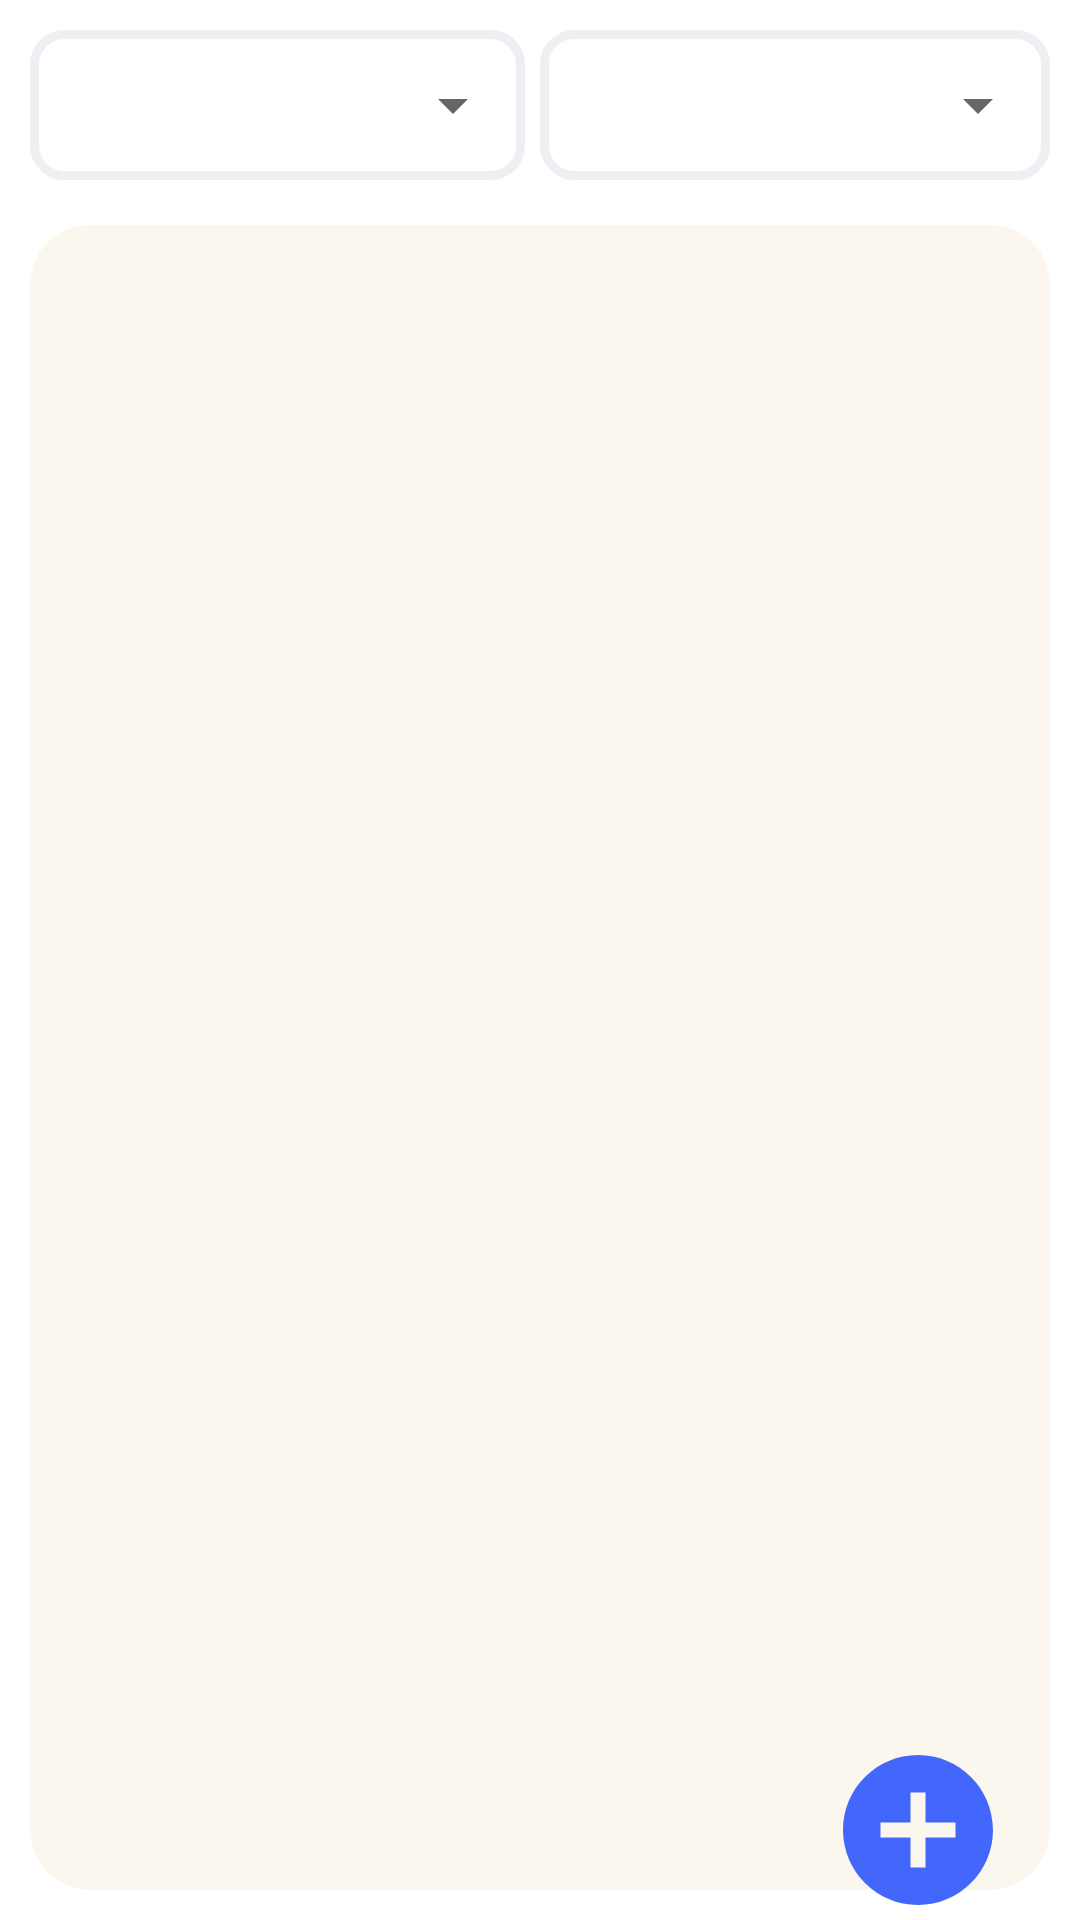

Icon click points for this 1080x1920 phone screenshot, format [x,y]:
add circle: [918,1830]
